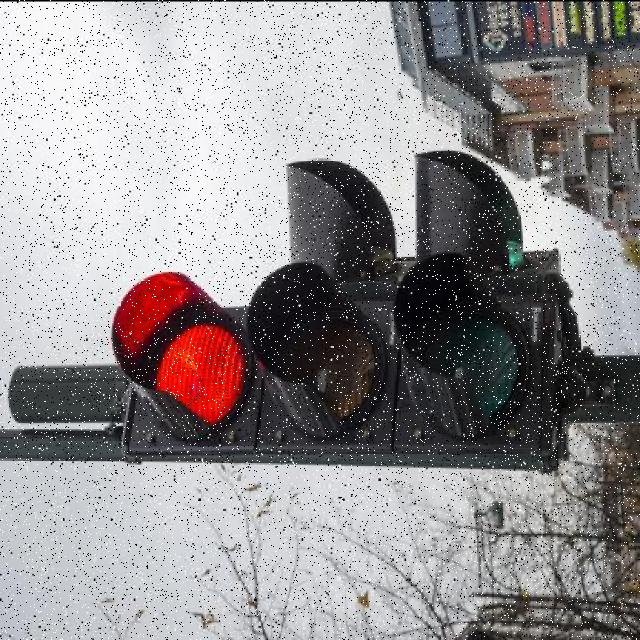red-light: (60, 186, 602, 510)
